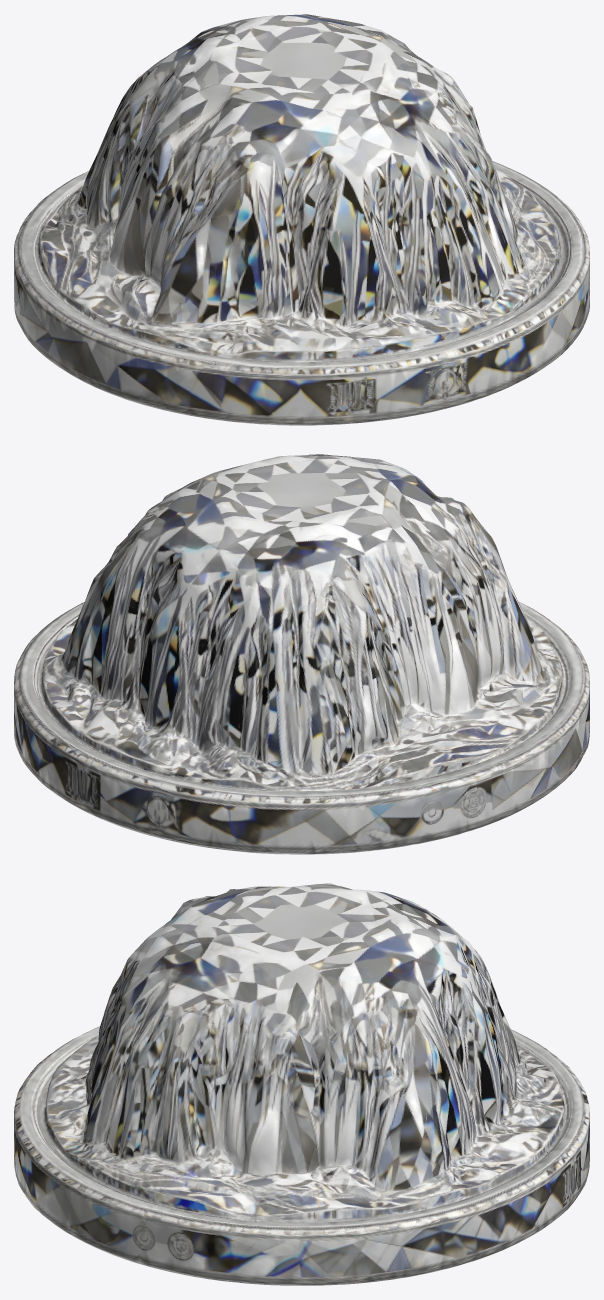
File: uluru_diamond.glb
3 renders of one model, top to bottom at view 1: azimuth 30°, elevation 25°; view 2: azimuth 150°, elevation 25°; view 3: azimuth 270°, elevation 25°, orthographic.
Visible parts, largest first — view 1: Mesh_0; view 2: Mesh_0; view 3: Mesh_0.
Boxes of the visible parts, left/top/right/bottom form: Mesh_0: left=14, top=14, right=589, bottom=425; Mesh_0: left=14, top=454, right=589, bottom=854; Mesh_0: left=14, top=883, right=589, bottom=1285.
Size of the model in its own units: 1.91 by 0.9167 by 1.91.
1 material, 1 textured.
